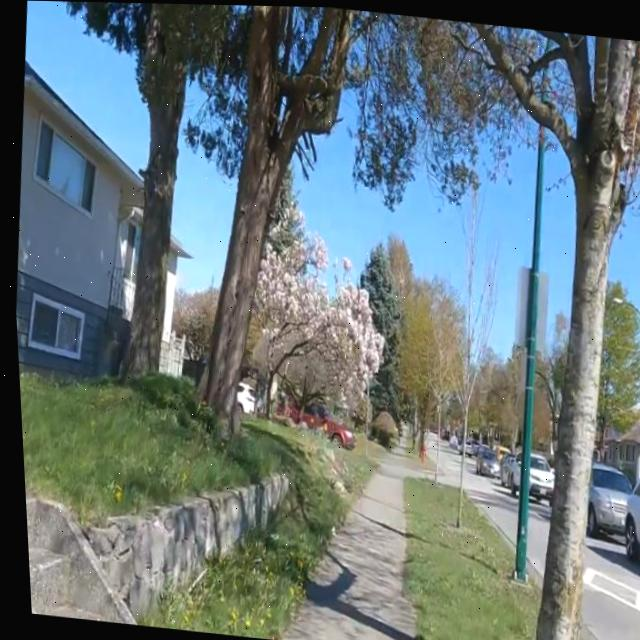Automobile: (581, 460, 626, 533), (293, 399, 349, 446), (617, 471, 640, 558), (523, 451, 547, 496), (495, 444, 515, 492), (470, 444, 493, 473), (231, 382, 249, 413)
Road: (575, 532, 640, 640), (461, 470, 511, 542), (522, 499, 543, 572)
Sidewalk: (275, 452, 413, 640)
